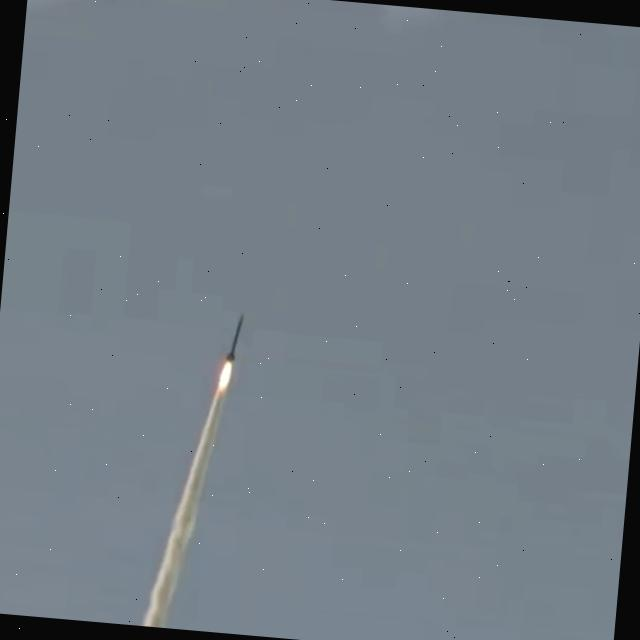rocket: (223, 314, 243, 362)
smoke_trail_with_rocket: (139, 315, 241, 628)
